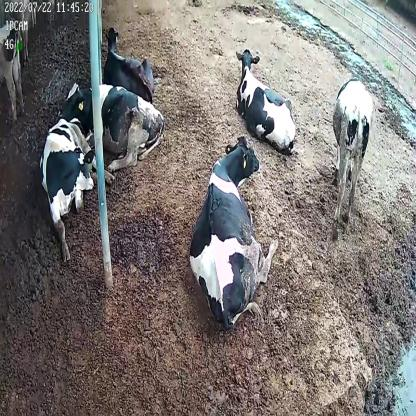cow: (189, 134, 277, 332), (42, 112, 114, 260), (59, 80, 163, 168), (235, 50, 299, 157), (328, 78, 373, 224), (101, 24, 156, 102)
